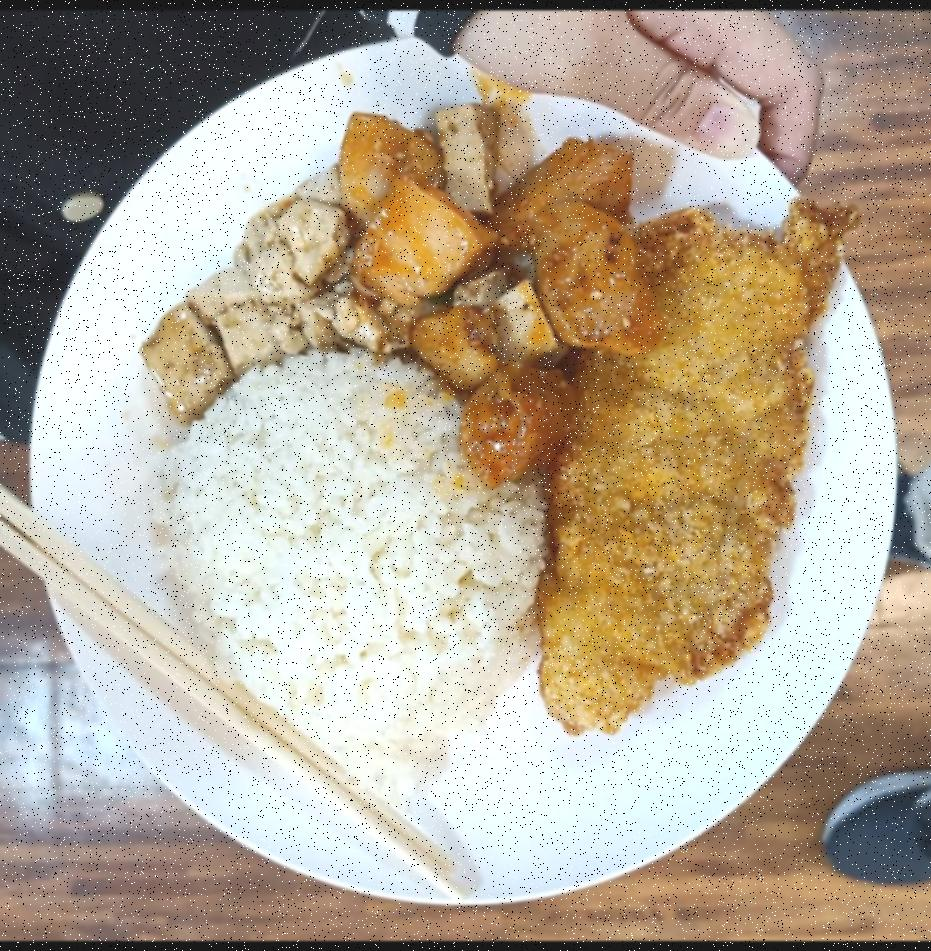chicken steak: (508, 175, 862, 742)
plate: (21, 29, 896, 932)
side dish: (332, 86, 629, 464), (143, 158, 374, 417)
white rice: (156, 346, 545, 794)
